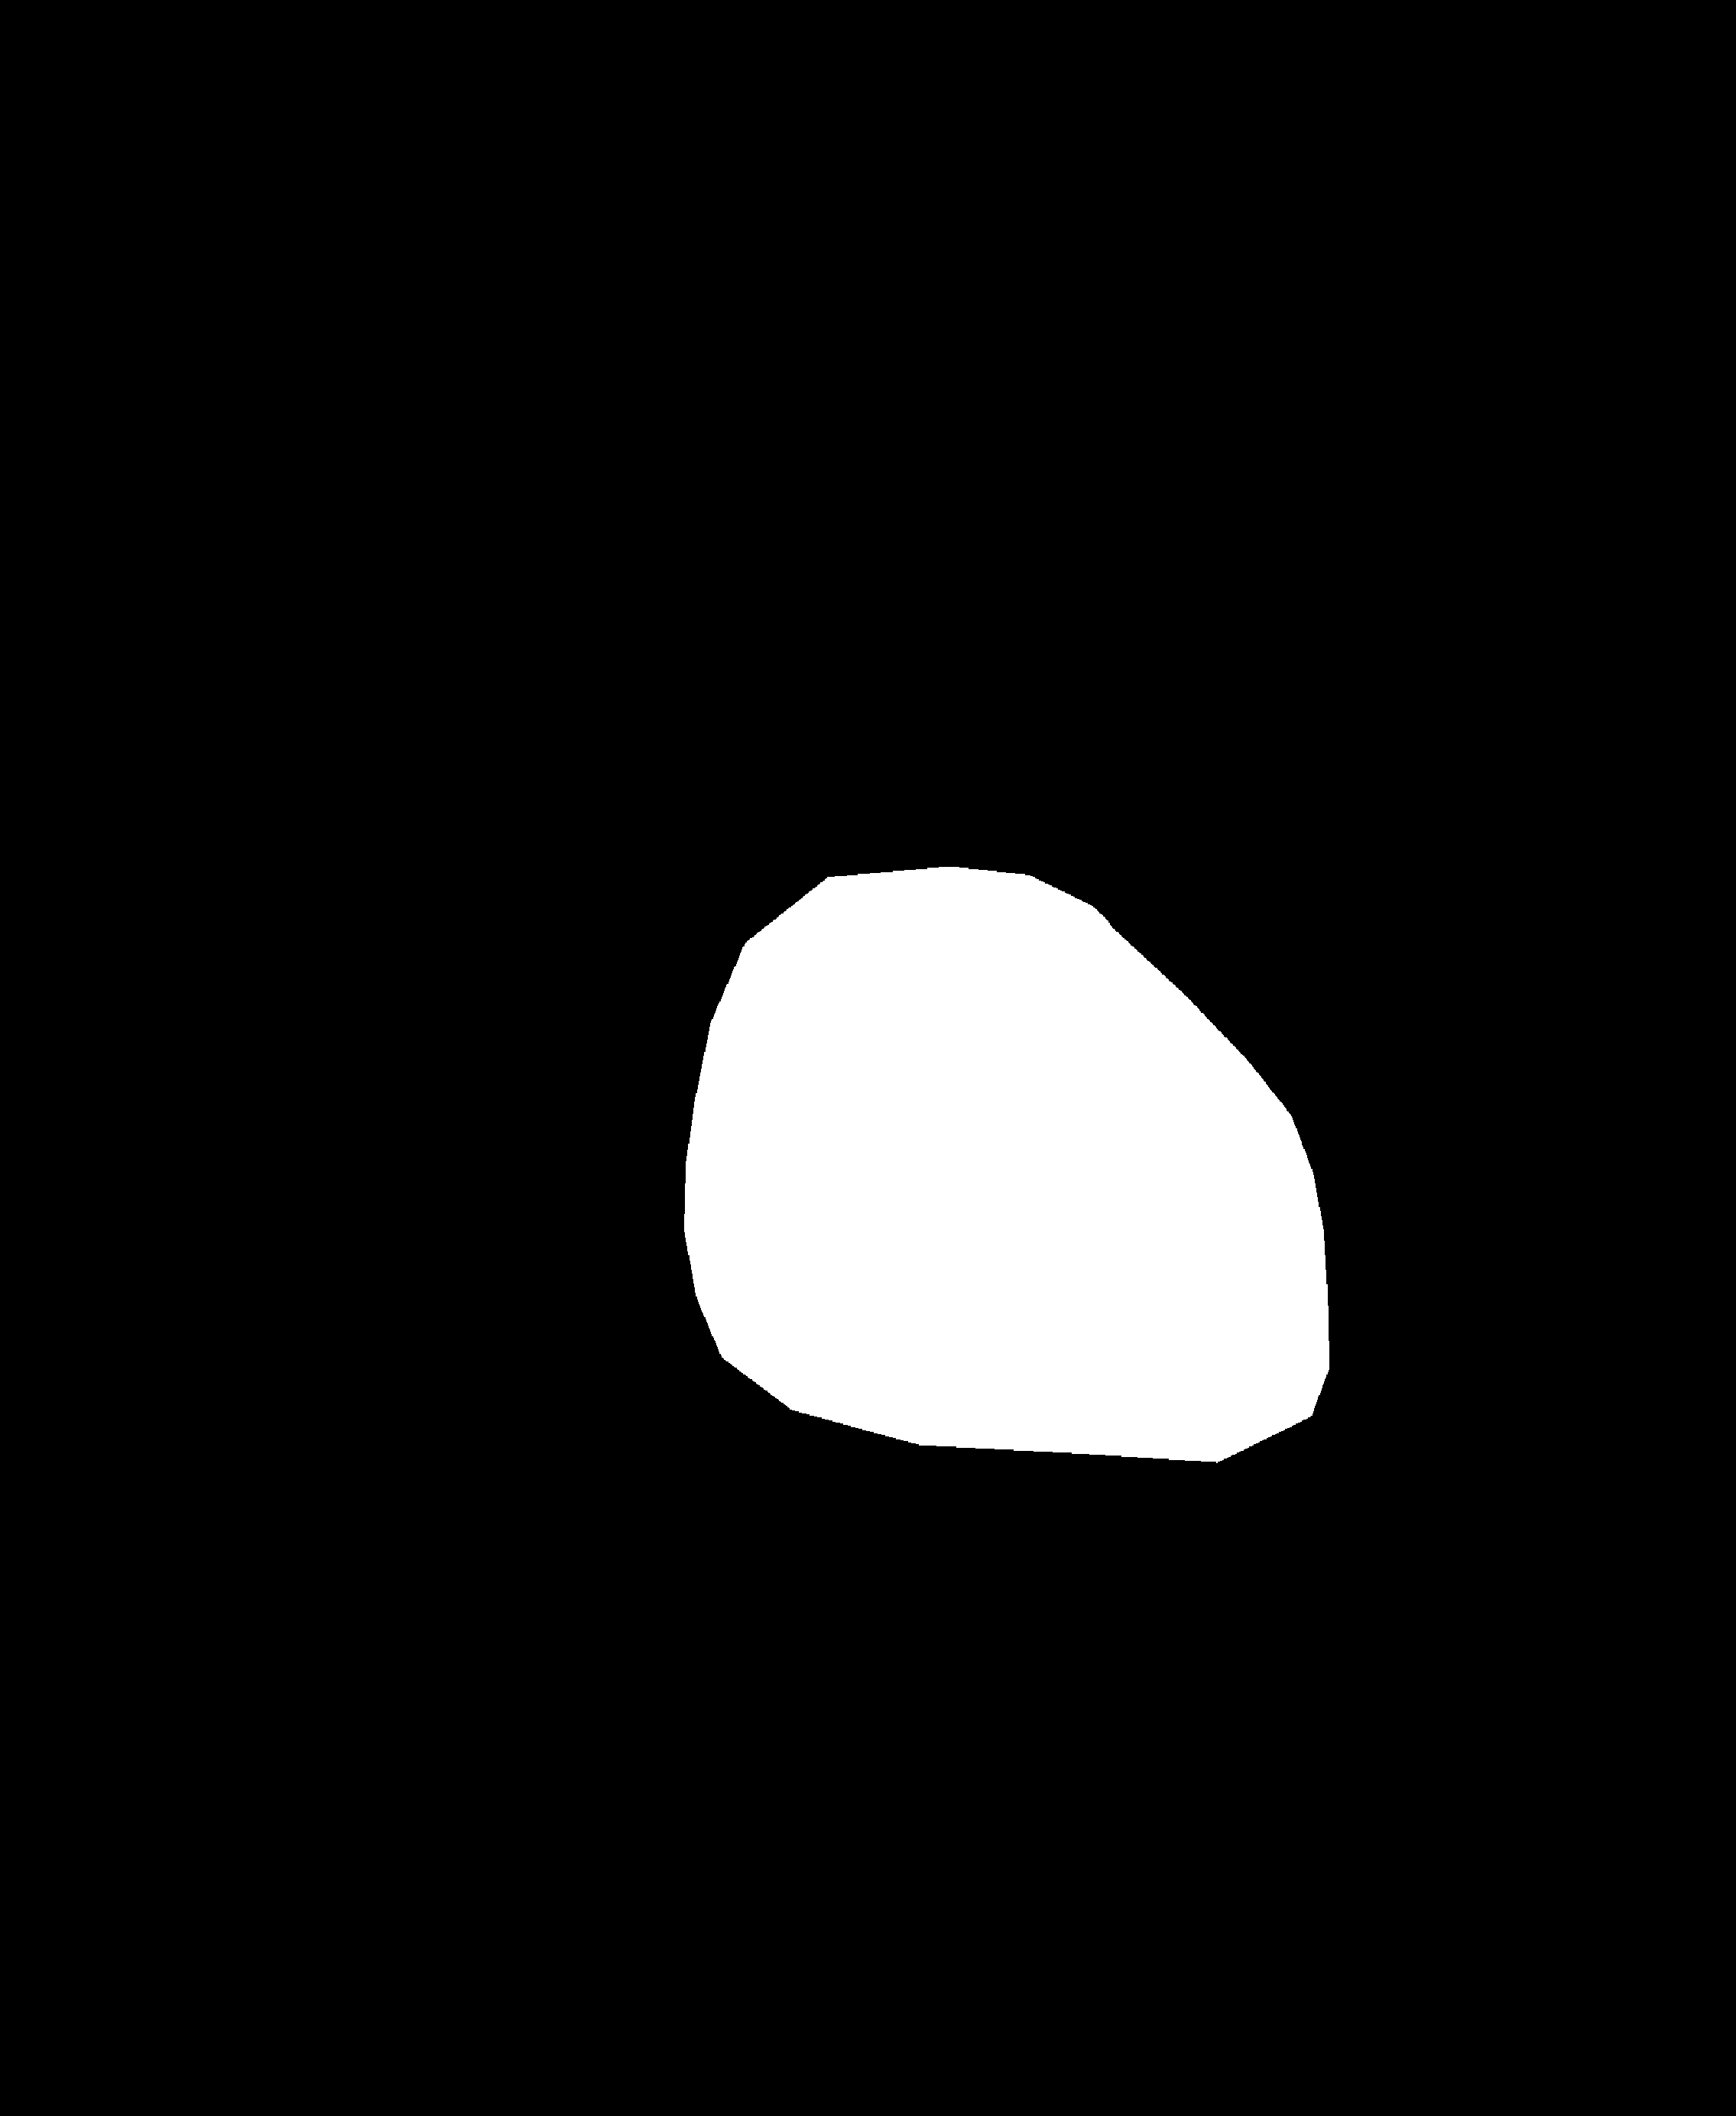heart: (682, 961, 1328, 1441)
left_lung: (193, 216, 819, 1550)
right_lung: (958, 206, 1553, 1548)
